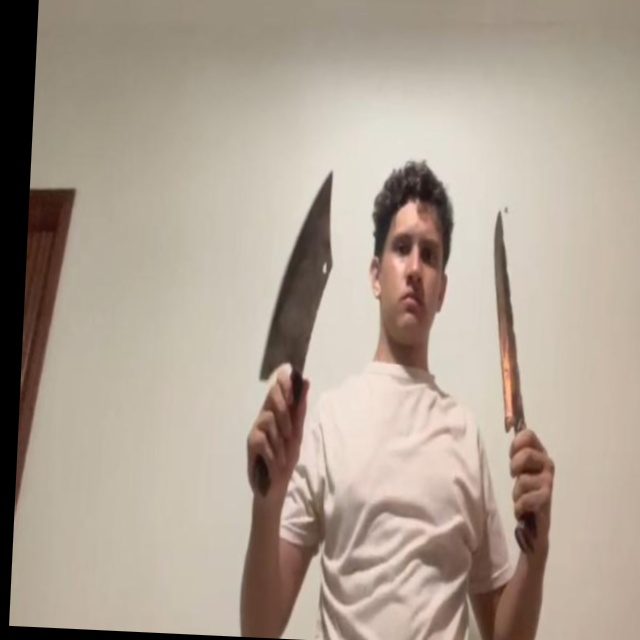Sharp-Object: (259, 169, 339, 384), (485, 209, 534, 432)
